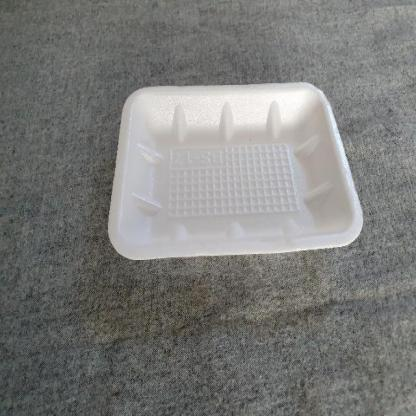Glass Cup: (108, 80, 364, 261), (108, 82, 364, 259)
